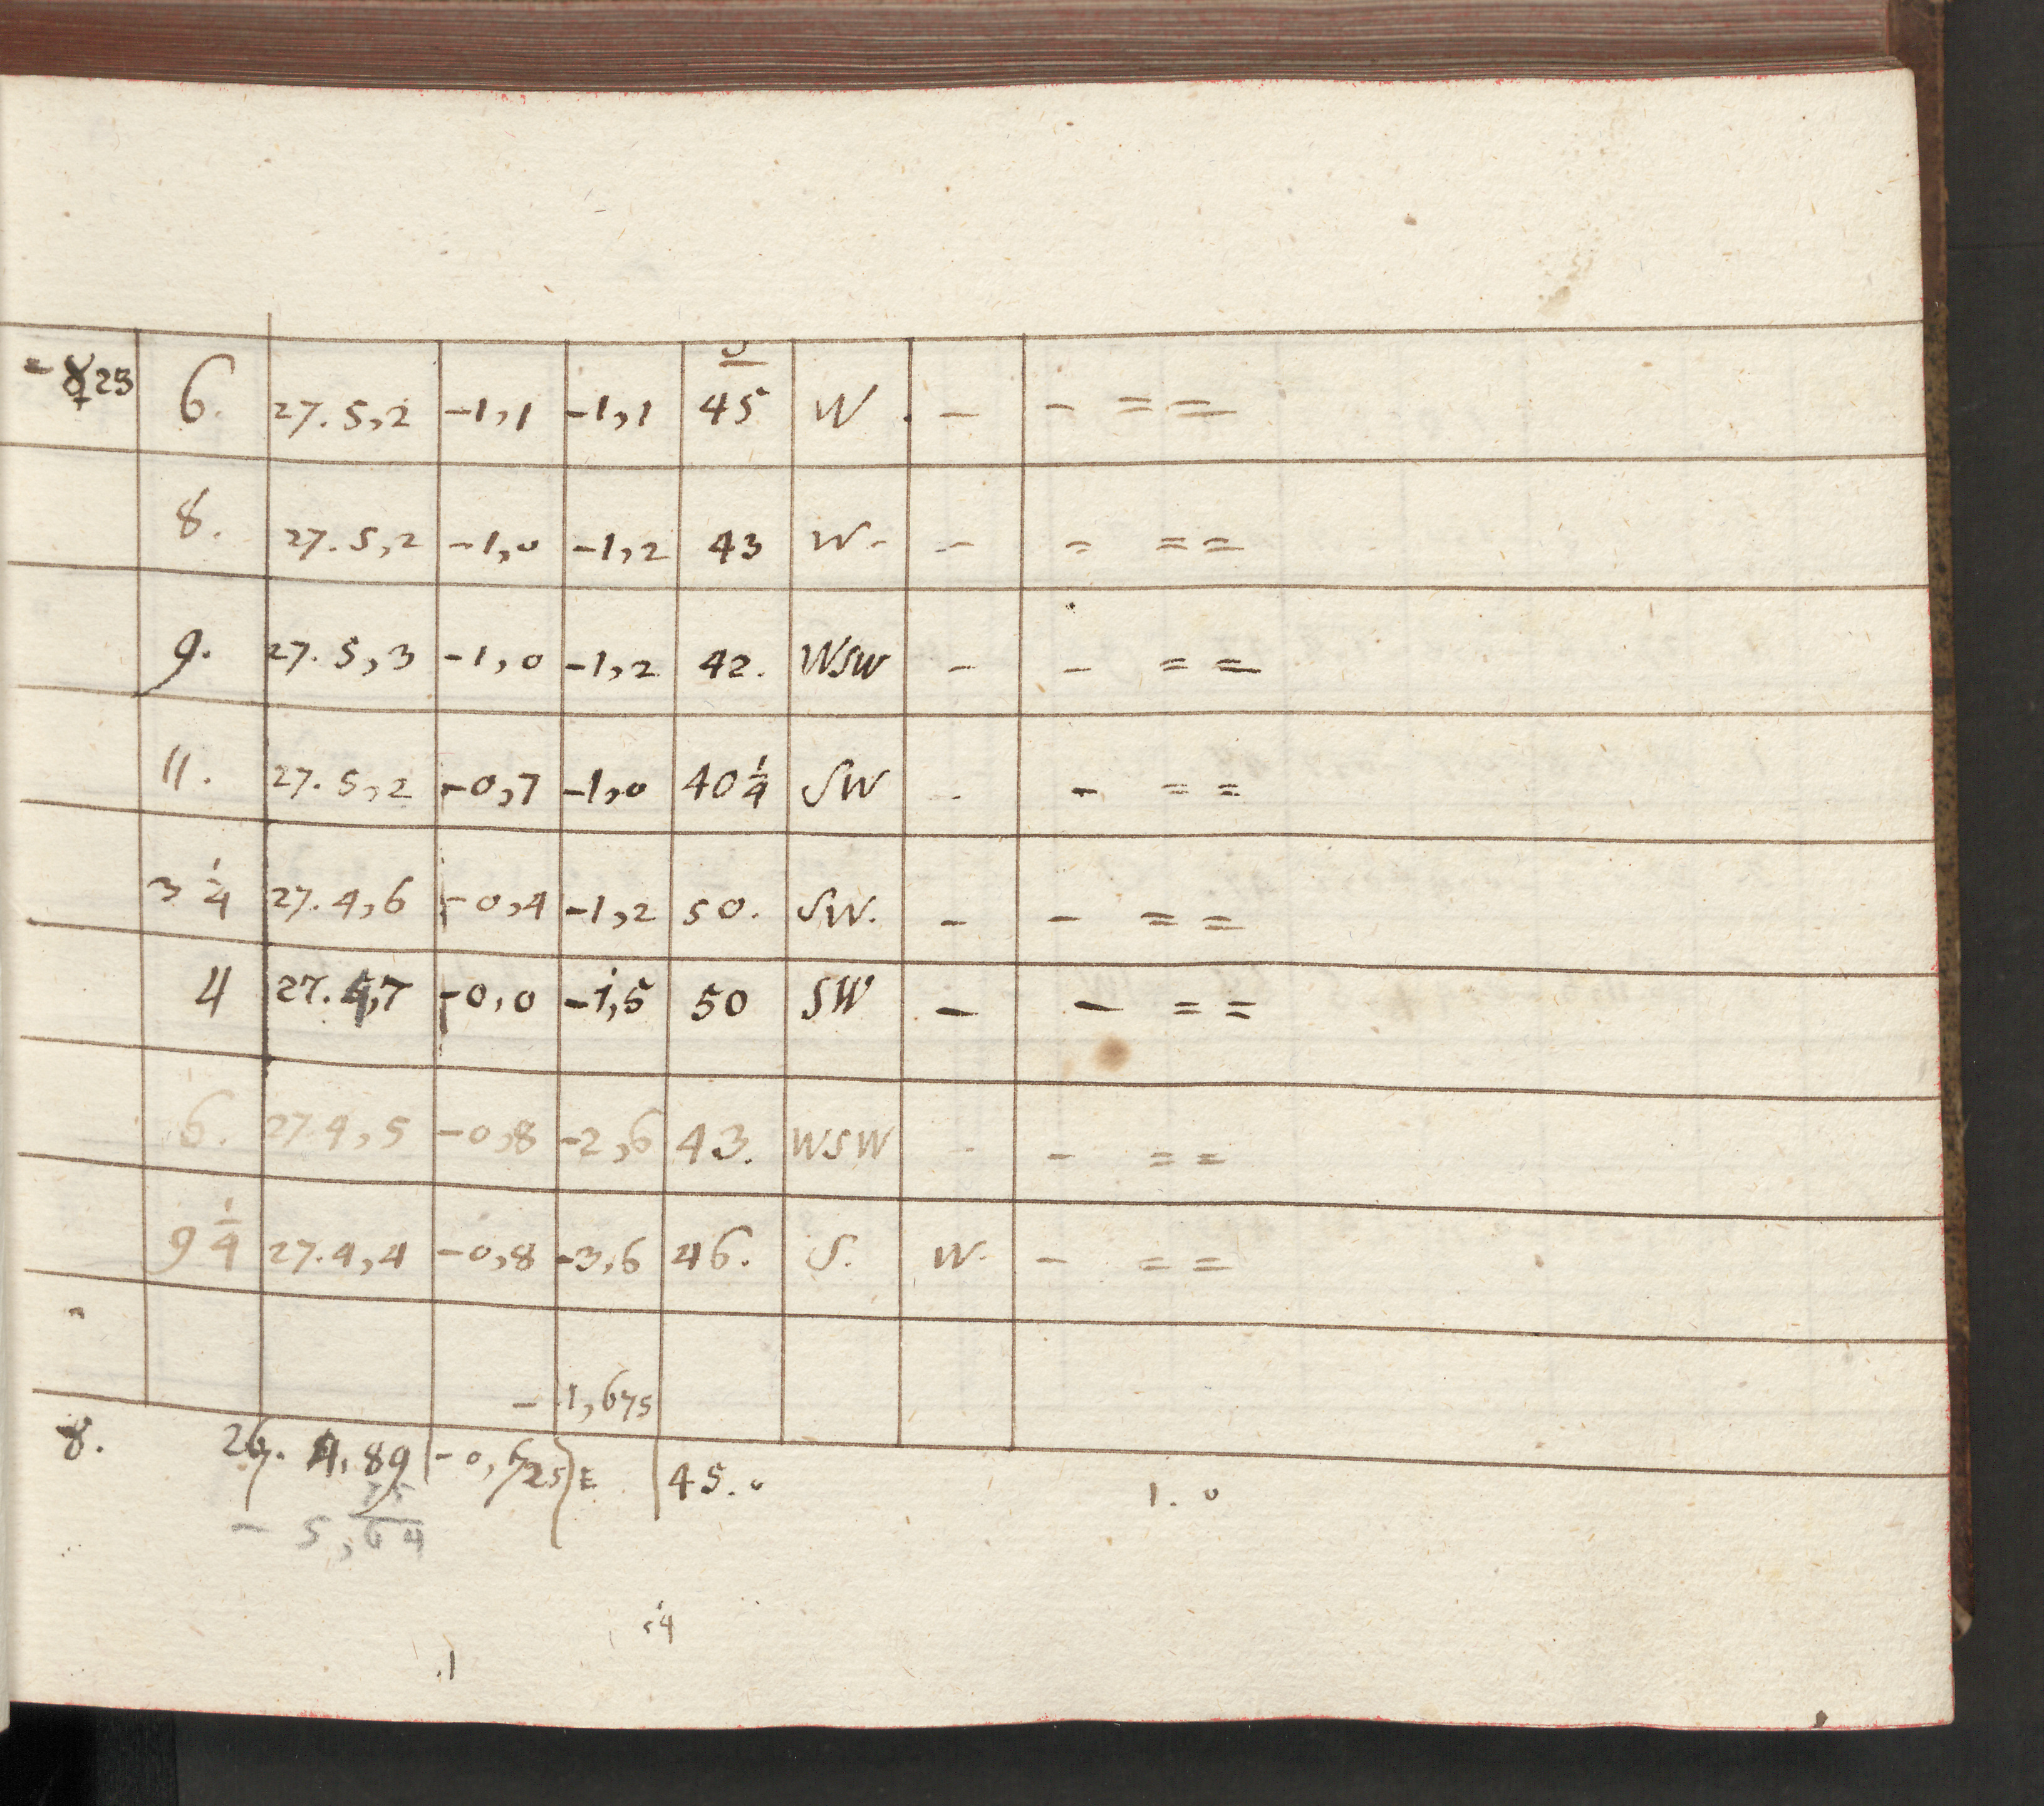bordered: (3, 326, 1932, 1457)
